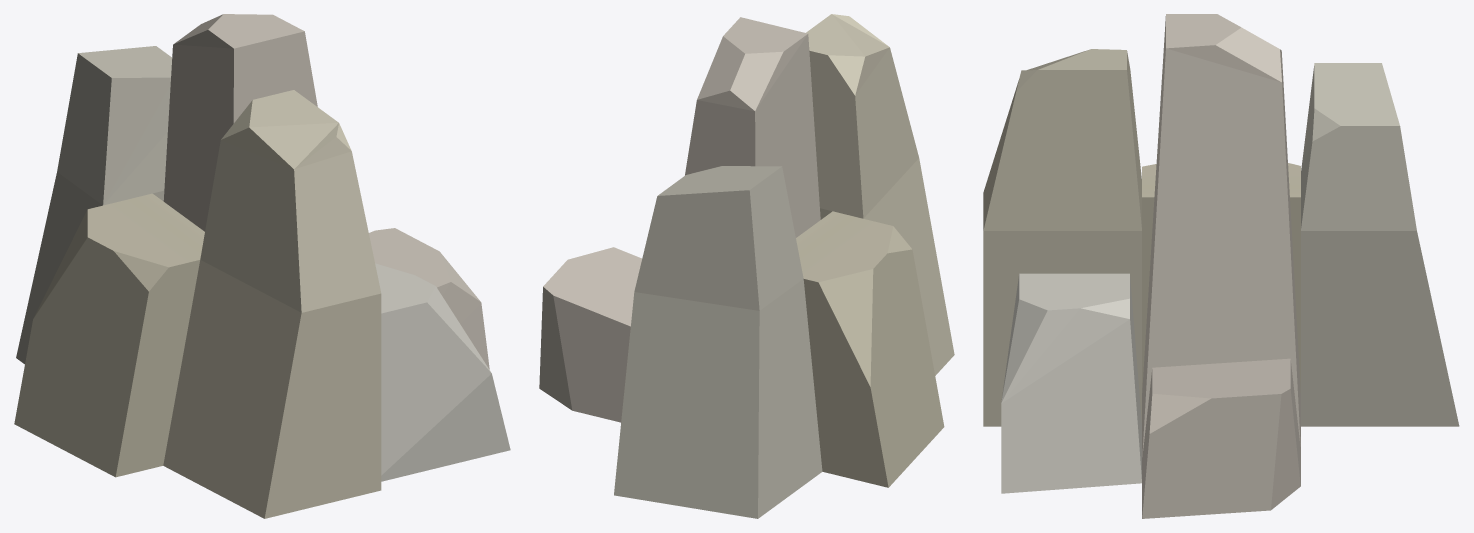
Rendered from Rocks_Square_l_01.fbx.
The picture shows the model from 3 angles, left to right: view 1: azimuth 30°, elevation 25°; view 2: azimuth 150°, elevation 25°; view 3: azimuth 270°, elevation 25°; orthographic projection. The views are drawn at different scales.
Visible parts, largest first — view 1: Rocks_Square_l_01; view 2: Rocks_Square_l_01; view 3: Rocks_Square_l_01.
Part boxes in pixels (box(x1,y1,x2,y2)): Rocks_Square_l_01: box(14, 14, 510, 518); Rocks_Square_l_01: box(539, 14, 954, 518); Rocks_Square_l_01: box(983, 14, 1459, 518).
Bounding box in the file's own units: 301 × 280 × 314.
